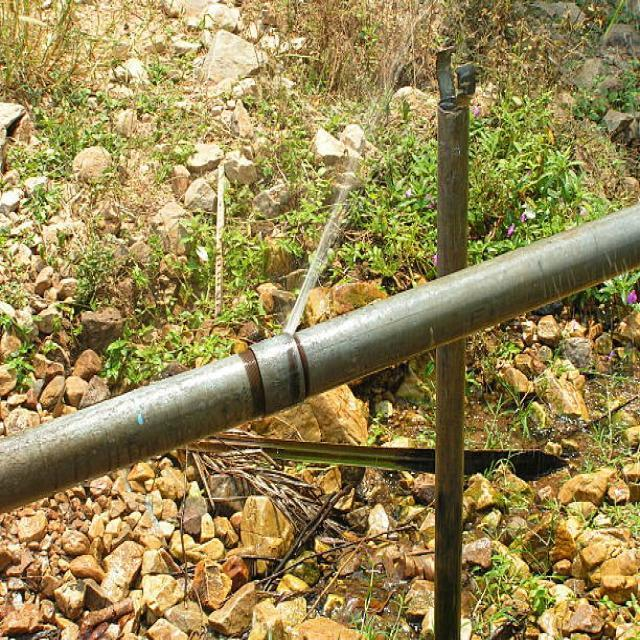pipe burst: (273, 103, 384, 344)
